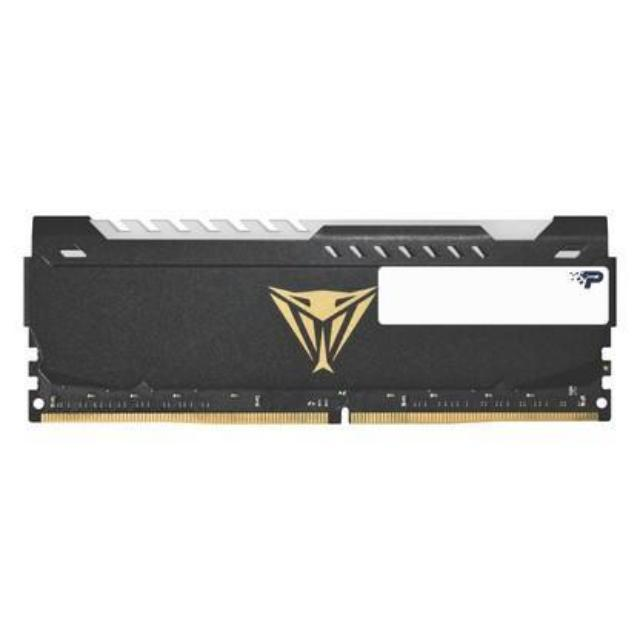RAM: (21, 203, 616, 434)
